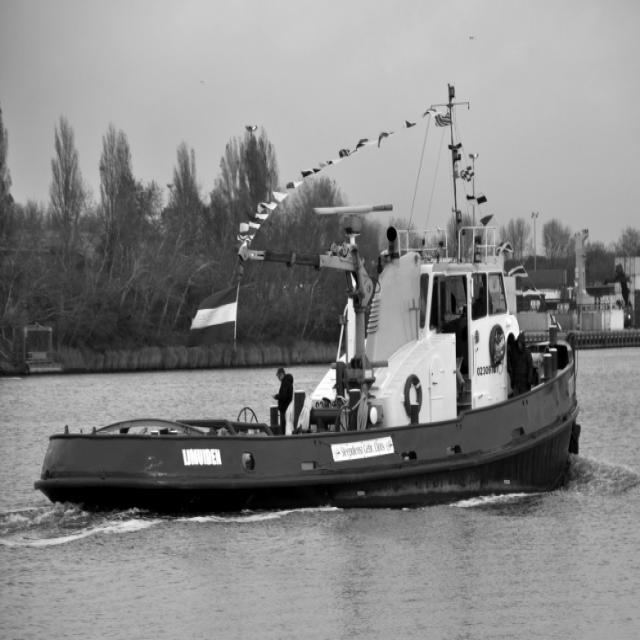tugboat: (37, 198, 588, 528)
